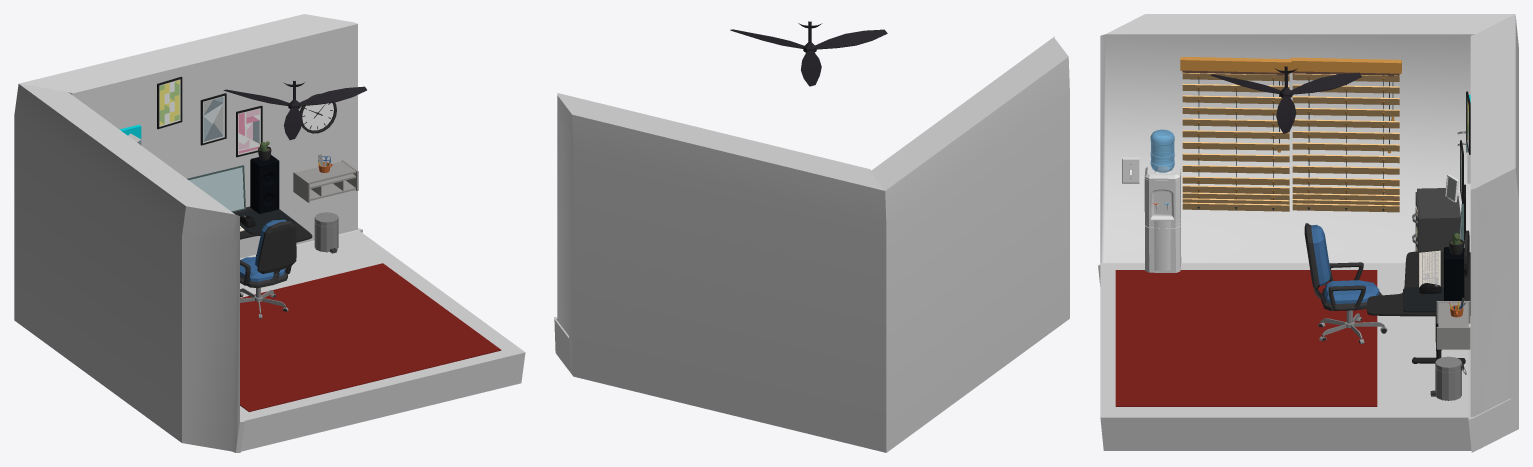
3 views of the same model, side by side, from view 1: azimuth 30°, elevation 25°; view 2: azimuth 150°, elevation 25°; view 3: azimuth 270°, elevation 25° (orthographic). The views are drawn at different scales.
Parts seen in each view (by area): view 1: Plane, WoolCarpet1, OfficeChair, Shelf_Small2, Ceiling Fan, computerScreen, BassSpeakers1, Node.002, Node.004, Node.003, Trashbin, Analog_Cock (+1 smaller); view 2: Plane, Ceiling Fan; view 3: Plane, WoolCarpet1, Cooler_Cylinder.004, OfficeChair, Main_, Ceiling Fan, Plane.001_Plane.002, group427675855.001, group427675855, Shelf_Small2, Trashbin, BassSpeakers1 (+31 smaller).
Boxes of the visible parts, <box> form: Plane: <box>14,14,525,452</box>; WoolCarpet1: <box>240,263,501,411</box>; OfficeChair: <box>240,219,296,318</box>; Shelf_Small2: <box>293,160,358,202</box>; Ceiling Fan: <box>223,81,366,140</box>; computerScreen: <box>187,165,245,212</box>; BassSpeakers1: <box>250,155,279,213</box>; Node.002: <box>200,93,226,145</box>; Node.004: <box>236,105,262,157</box>; Node.003: <box>157,76,182,129</box>; Trashbin: <box>314,212,338,253</box>; Analog_Cock: <box>299,93,336,133</box>; Plane: <box>554,36,1069,452</box>; Ceiling Fan: <box>730,21,887,86</box>; Plane: <box>1098,14,1518,452</box>; WoolCarpet1: <box>1115,270,1377,406</box>; Cooler_Cylinder.004: <box>1144,129,1181,272</box>; OfficeChair: <box>1304,223,1387,343</box>; Main_: <box>1417,188,1460,251</box>; Ceiling Fan: <box>1210,66,1361,133</box>; Plane.001_Plane.002: <box>1366,251,1470,316</box>; group427675855.001: <box>1290,57,1401,73</box>; group427675855: <box>1180,57,1291,73</box>; Shelf_Small2: <box>1436,301,1470,349</box>; Trashbin: <box>1430,356,1466,400</box>; BassSpeakers1: <box>1444,247,1464,300</box>.
Size of the model in its own units: 6.77 by 6.12 by 6.85.
71 materials, 6 textured.
